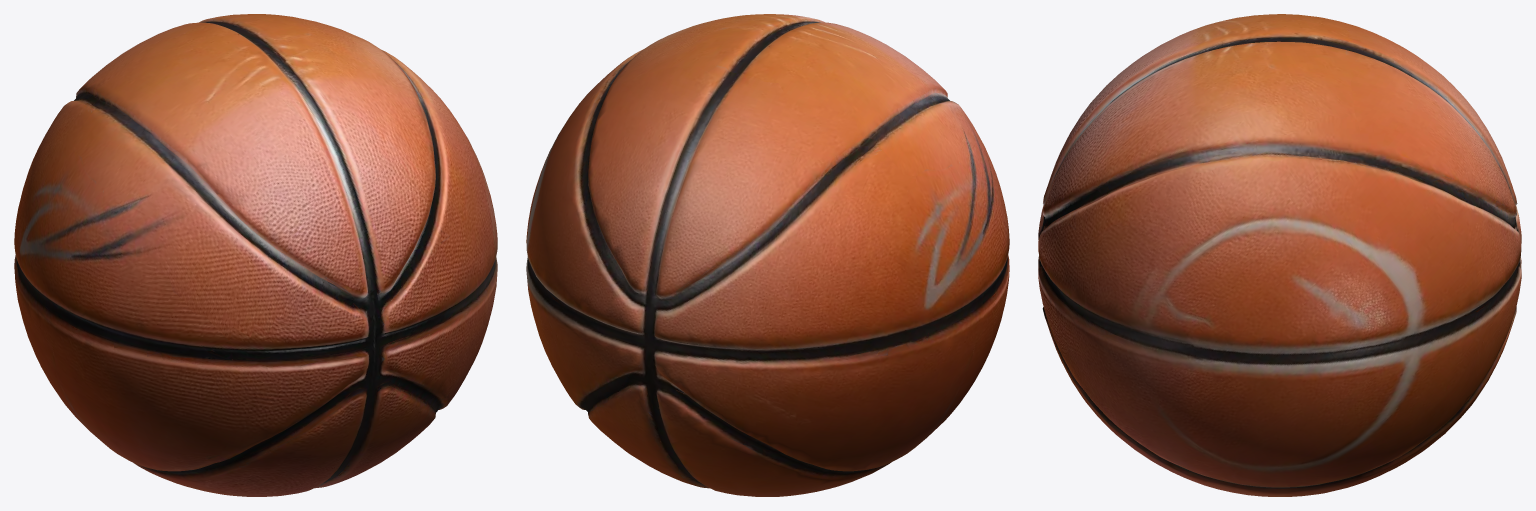
The model's file is Meshy_AI_Basketball_Sphere_0301025647_texture.glb.
3 views of the same model, side by side, from view 1: azimuth 30°, elevation 25°; view 2: azimuth 150°, elevation 25°; view 3: azimuth 270°, elevation 25° (orthographic).
Parts seen in each view (by area): view 1: Mesh_0.002; view 2: Mesh_0.002; view 3: Mesh_0.002.
Part boxes in pixels (x1,y1,x2,y2): Mesh_0.002: (14, 14, 497, 496); Mesh_0.002: (526, 14, 1009, 496); Mesh_0.002: (1038, 14, 1521, 496).
Bounding box in the file's own units: 1 × 1 × 1.
Materials: 1 (1 with a texture image).
